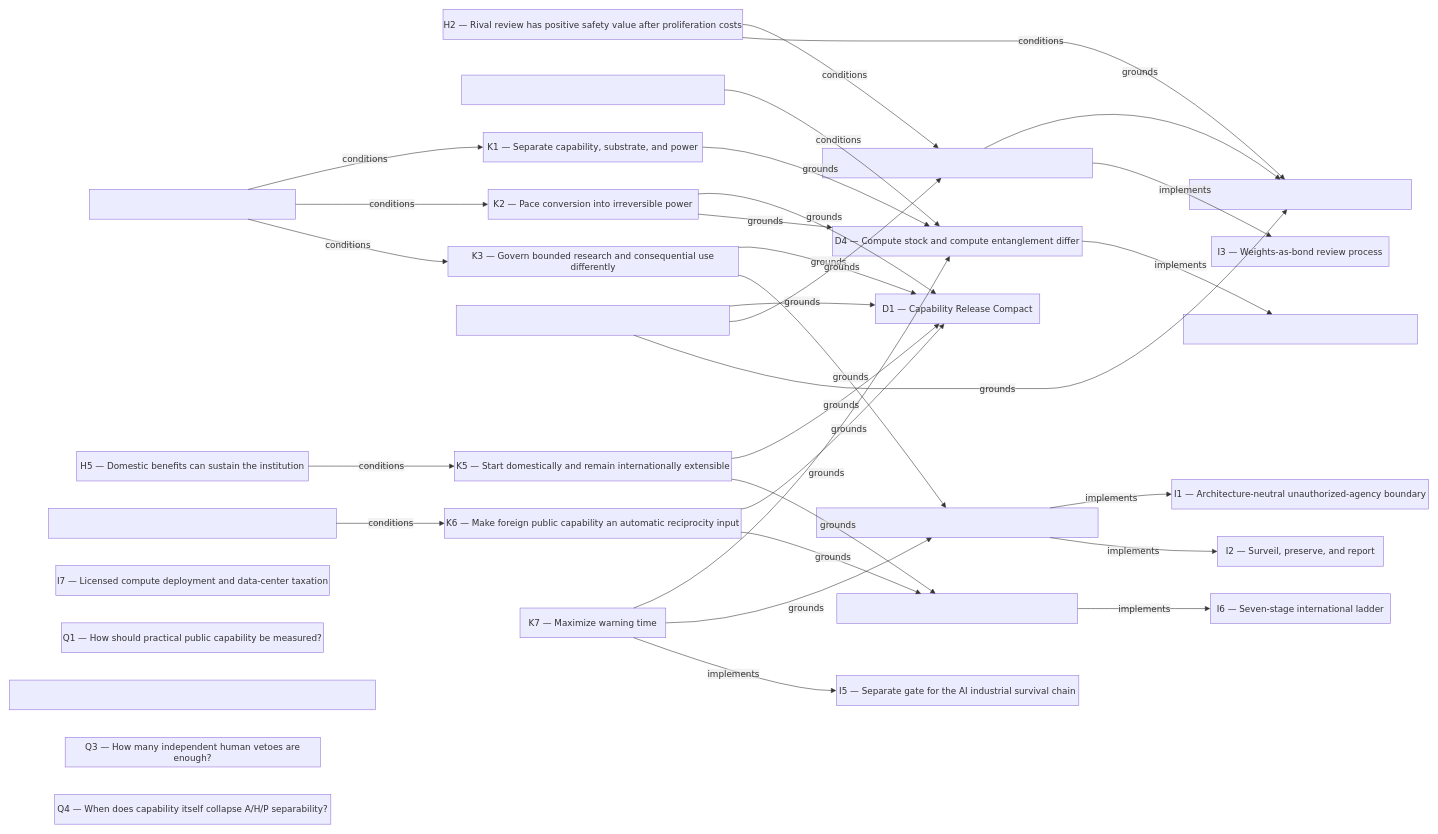
This 1438x834 diagram has some shape labels left out. Here are the shapes that lost their labels. From the top down, the centre of each, then its label:
[593,90]: H4 — Physical activation latency can preserve reversibility
[957,163]: D2 — Rival laboratories provide the technical attack surface
[192,204]: H1 — A/H/P separability remains actionable
[1300,194]: D3 — Safety becomes part of the profit function
[593,320]: K4 — Require adversarial assurance above the public frontier
[1300,329]: I4 — Observable uncommissioned hardware reserve
[192,523]: H3 — The foreign public frontier is measurable enough to govern
[957,522]: D5 — Unauthorized agency can be made epistemically valuable
[957,608]: D6 — International cooperation can deepen in stages
[192,695]: Q2 — What access makes adversarial review credible without unacceptable leakage?
